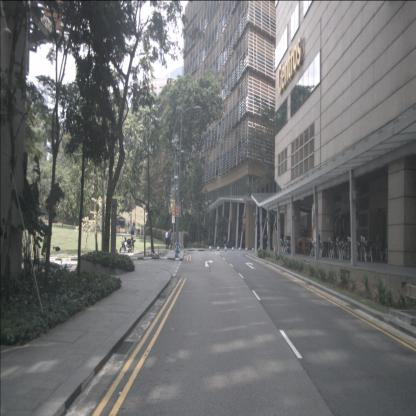human-pedestrian-adult: (165, 229, 169, 250), (170, 230, 173, 250)
vehicle-motorcycle: (119, 235, 135, 255), (120, 235, 136, 255)
